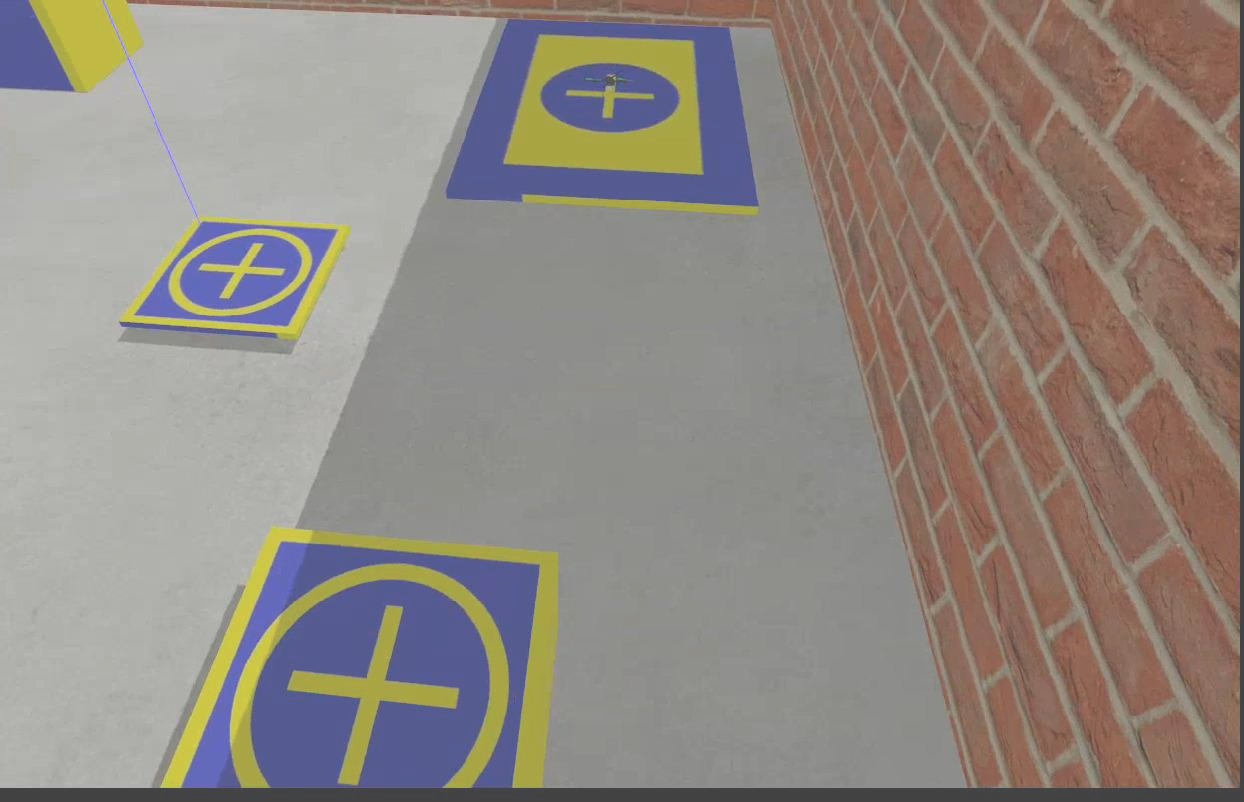large_base: (444, 20, 759, 214)
small_base: (164, 525, 563, 791), (123, 209, 349, 344)
